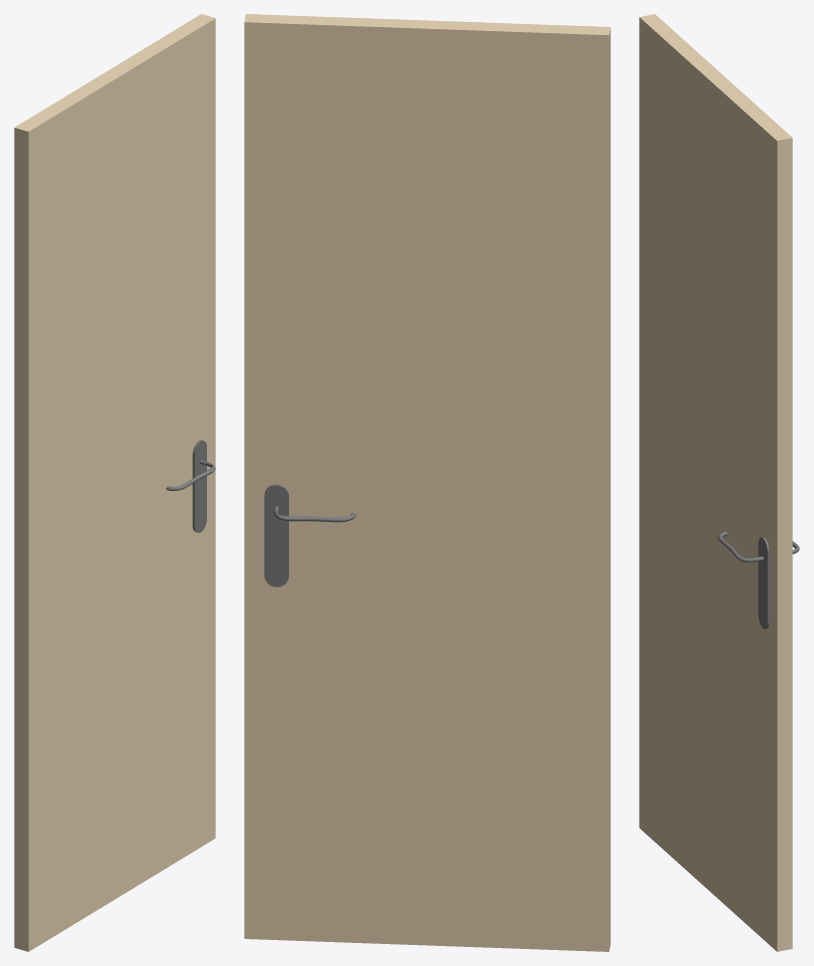
The model's file is Leuchtturm_OG1_Tuer1.fbx.
3 renders of one model, left to right at view 1: azimuth 30°, elevation 25°; view 2: azimuth 150°, elevation 25°; view 3: azimuth 270°, elevation 25°, orthographic. The views are drawn at different scales.
Parts seen in each view (by area): view 1: Holz, innen_2, Metall_4; view 2: Holz, innen_2, Metall_4; view 3: Holz, innen_2, Metall_4.
Part boxes in pixels (box(x1,y1,x2,y2)): Holz, innen_2: box(14, 14, 215, 951); Metall_4: box(166, 440, 215, 532); Holz, innen_2: box(244, 14, 610, 951); Metall_4: box(264, 484, 355, 587); Holz, innen_2: box(639, 14, 792, 951); Metall_4: box(718, 531, 799, 628).
Bounding box in the file's own units: 0.6958 × 2.07 × 0.3708.
